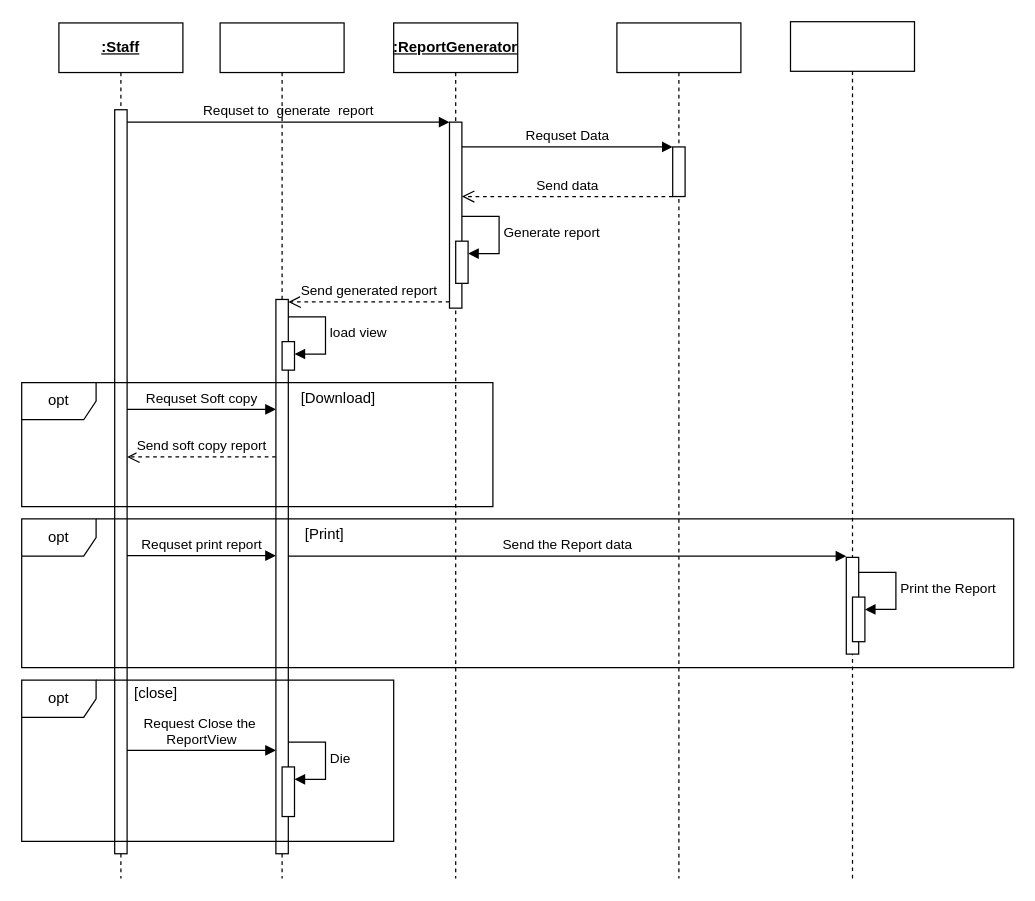
The diagram is 1035 pixels wide and 901 high, and some of its shapes have lost their labels. The box of each missing label's shape, as (x1, y1, x2, y2) in pixels:
:Database: (616, 22, 741, 879)
:Printer: (789, 20, 914, 880)
:ViewReport: (219, 22, 344, 879)
